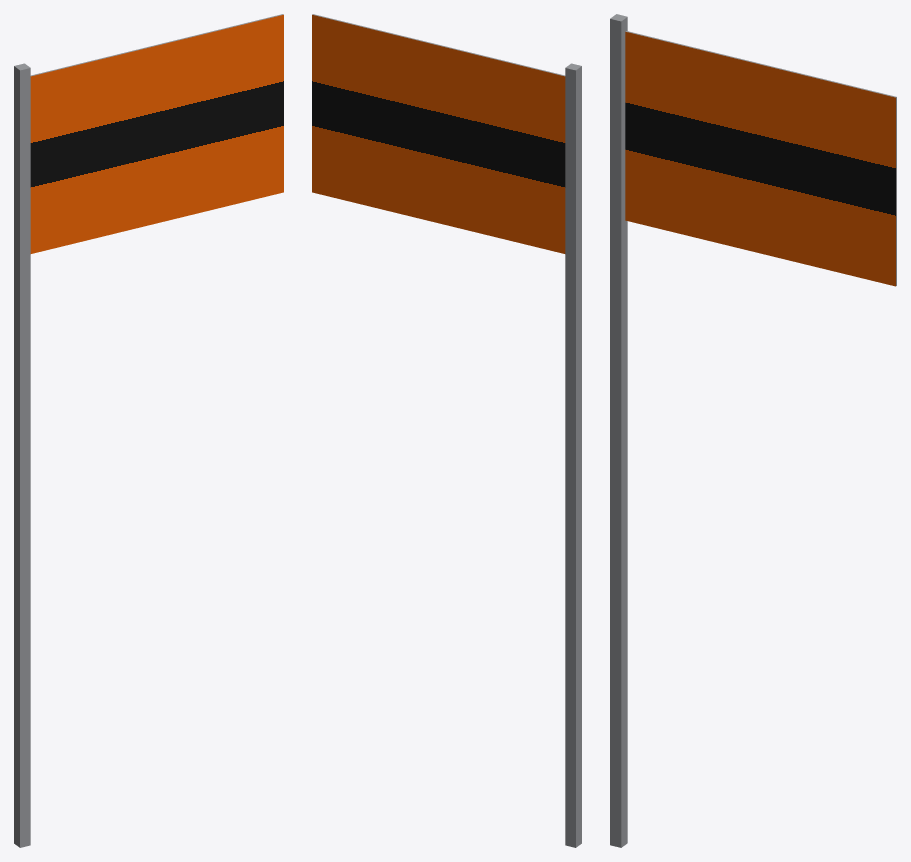
Rendered from flag_orange.dae.
3 views of the same model, side by side, from view 1: azimuth 30°, elevation 25°; view 2: azimuth 150°, elevation 25°; view 3: azimuth 330°, elevation 25° (orthographic). The views are drawn at different scales.
Parts seen in each view (by area): view 1: marker; view 2: marker; view 3: marker.
Part boxes in pixels (left/top/right/bottom): marker: left=14, top=14, right=283, bottom=847; marker: left=312, top=14, right=581, bottom=847; marker: left=610, top=14, right=896, bottom=847.
Bounding box in the file's own units: 1.26 × 0.05 × 3.5.
Materials: 1 (1 with a texture image).
